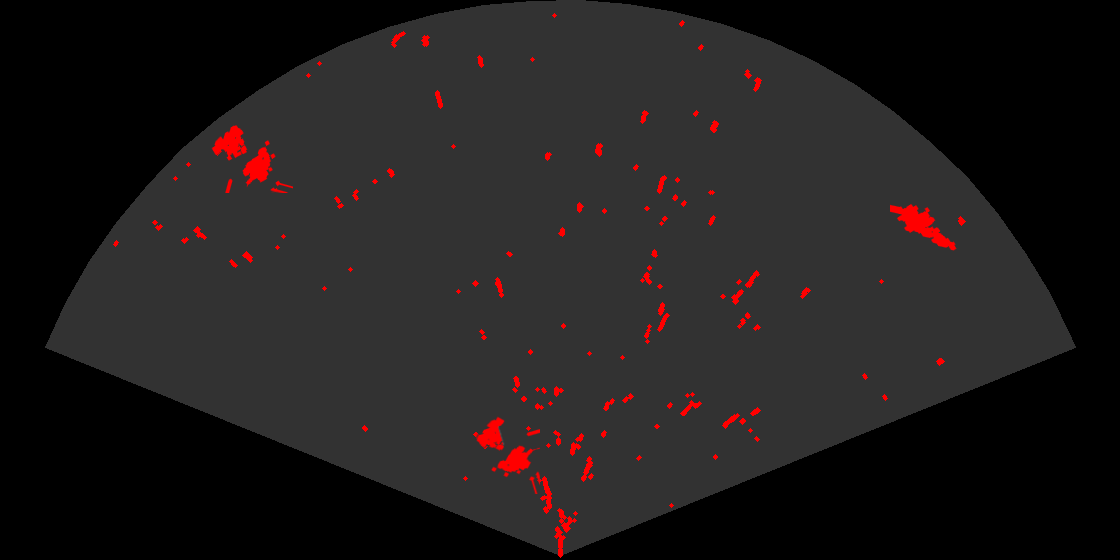cage: (210, 124, 293, 193), (475, 415, 540, 494)
frogman: (890, 203, 958, 252)
